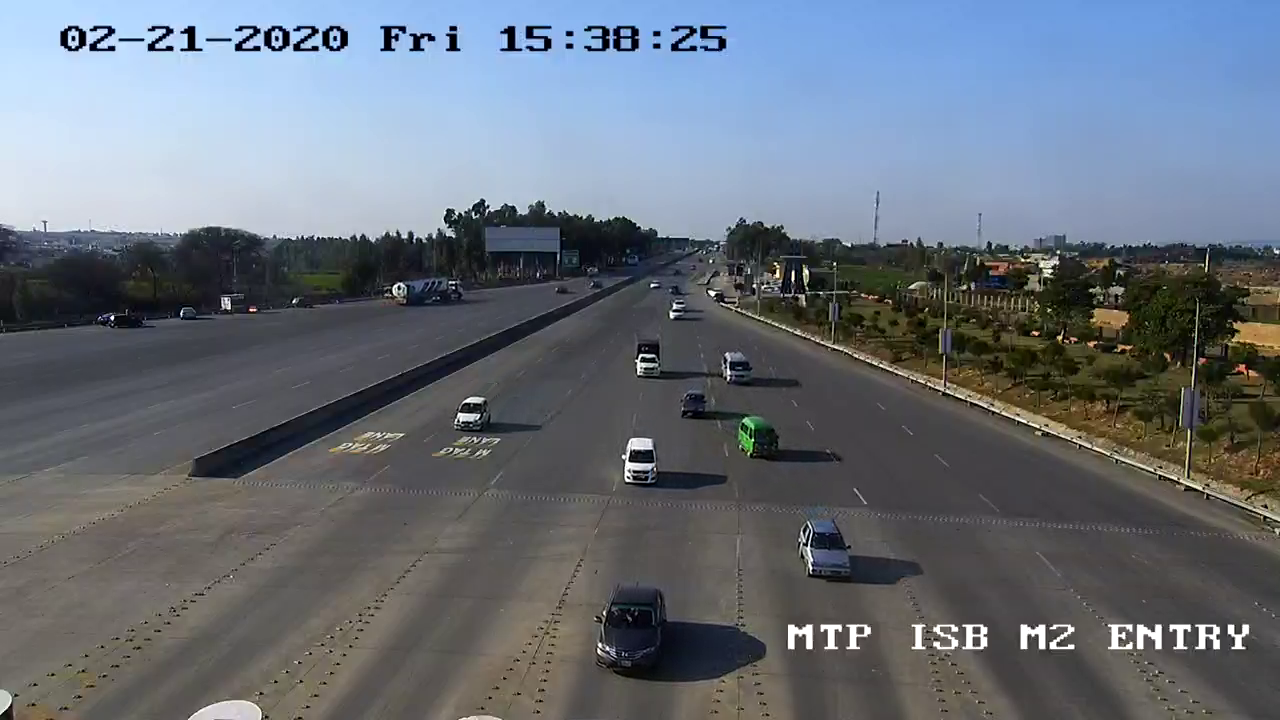f1: (577, 574, 679, 683), (788, 516, 862, 589), (722, 408, 797, 471), (606, 430, 666, 494), (443, 391, 500, 440)
